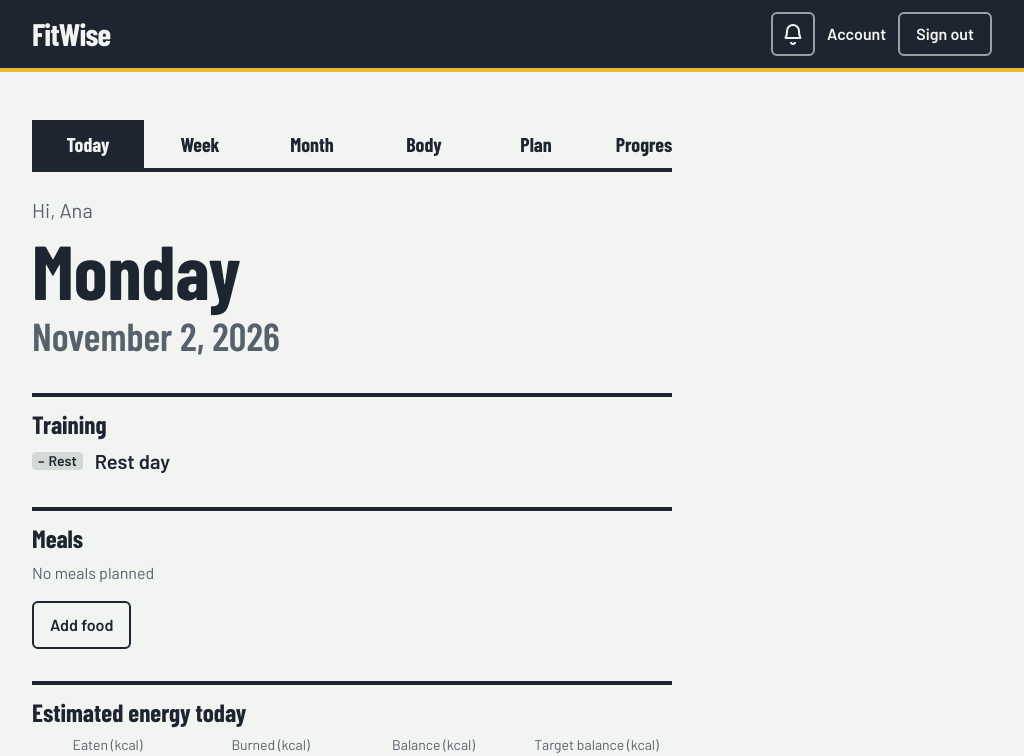
Scenario: sign out › stays signed in and says so when the logout request fails
Click the button "Sign out" at (945, 34), box [898,12,992,56]
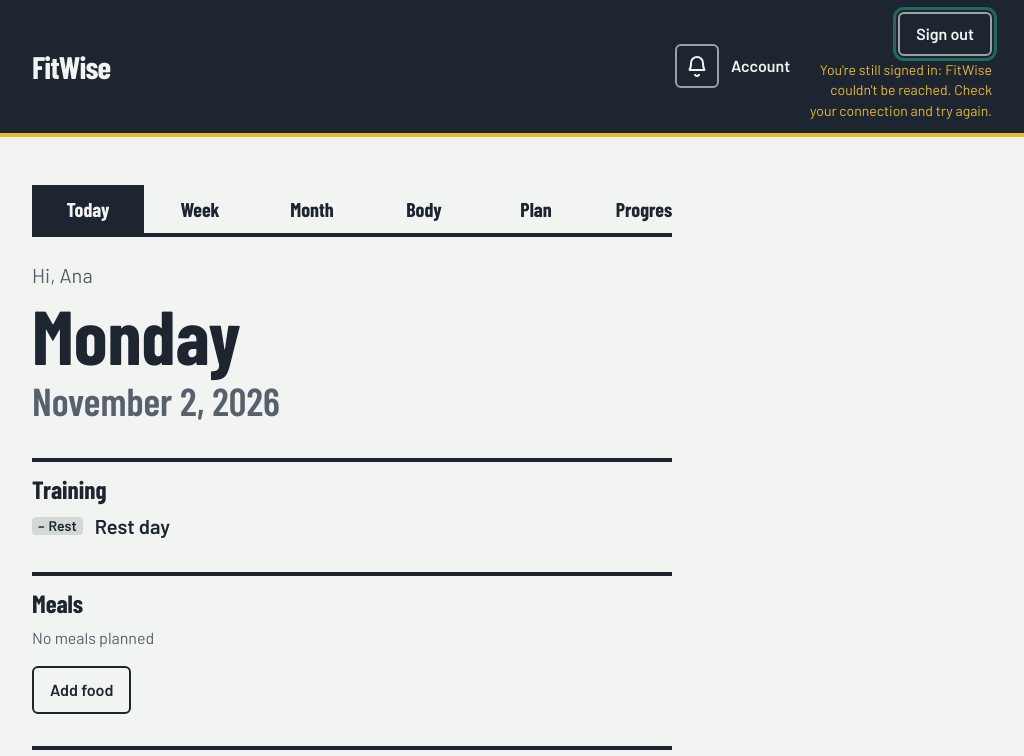
Result: the message shows "You're still signed in: FitWise couldn't be reached. Check your connection and try again." at [810,61,992,119]
